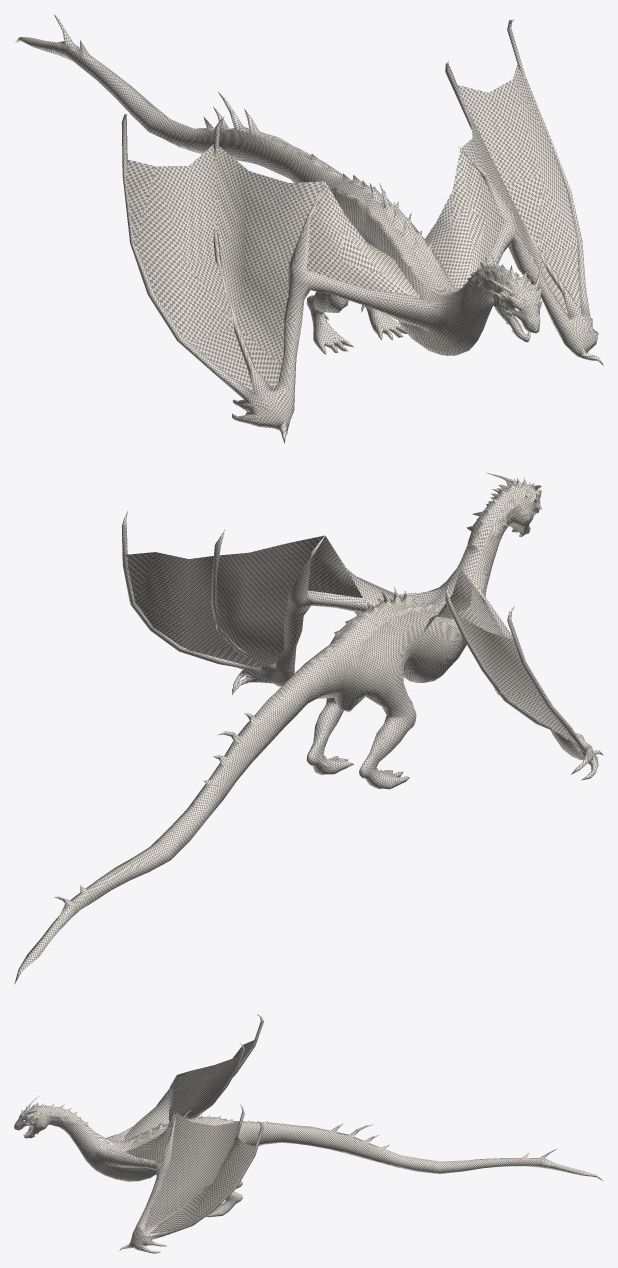
The model's file is dragon.gltf.
The picture shows the model from 3 angles, top to bottom: view 1: azimuth 30°, elevation 25°; view 2: azimuth 150°, elevation 25°; view 3: azimuth 270°, elevation 25°; orthographic projection. The views are drawn at different scales.
Parts seen in each view (by area): view 1: smaug_Smaug; view 2: smaug_Smaug; view 3: smaug_Smaug.
Part boxes in pixels (bbox=[...]): smaug_Smaug: bbox=[14, 14, 603, 443]; smaug_Smaug: bbox=[14, 472, 603, 984]; smaug_Smaug: bbox=[14, 1014, 602, 1253].
Size of the model in its own units: 52.63 by 29.53 by 113.
5 materials, 1 textured.
